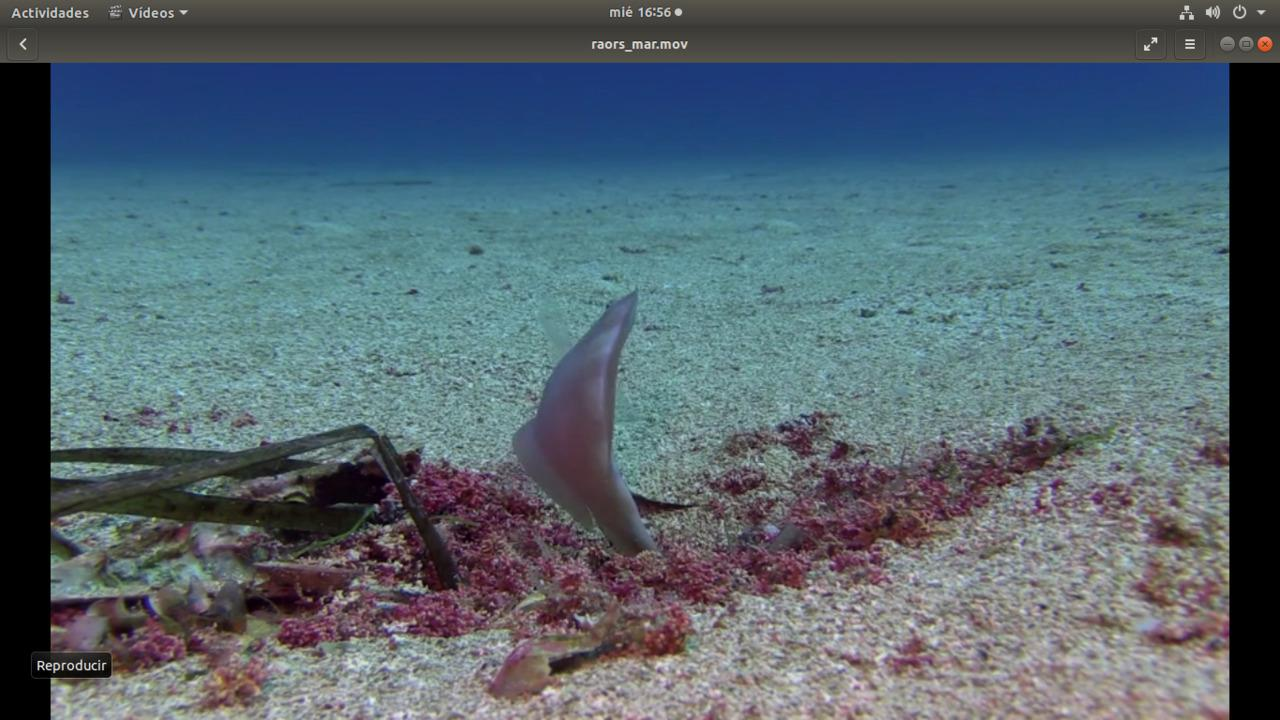raor: (505, 280, 676, 559)
